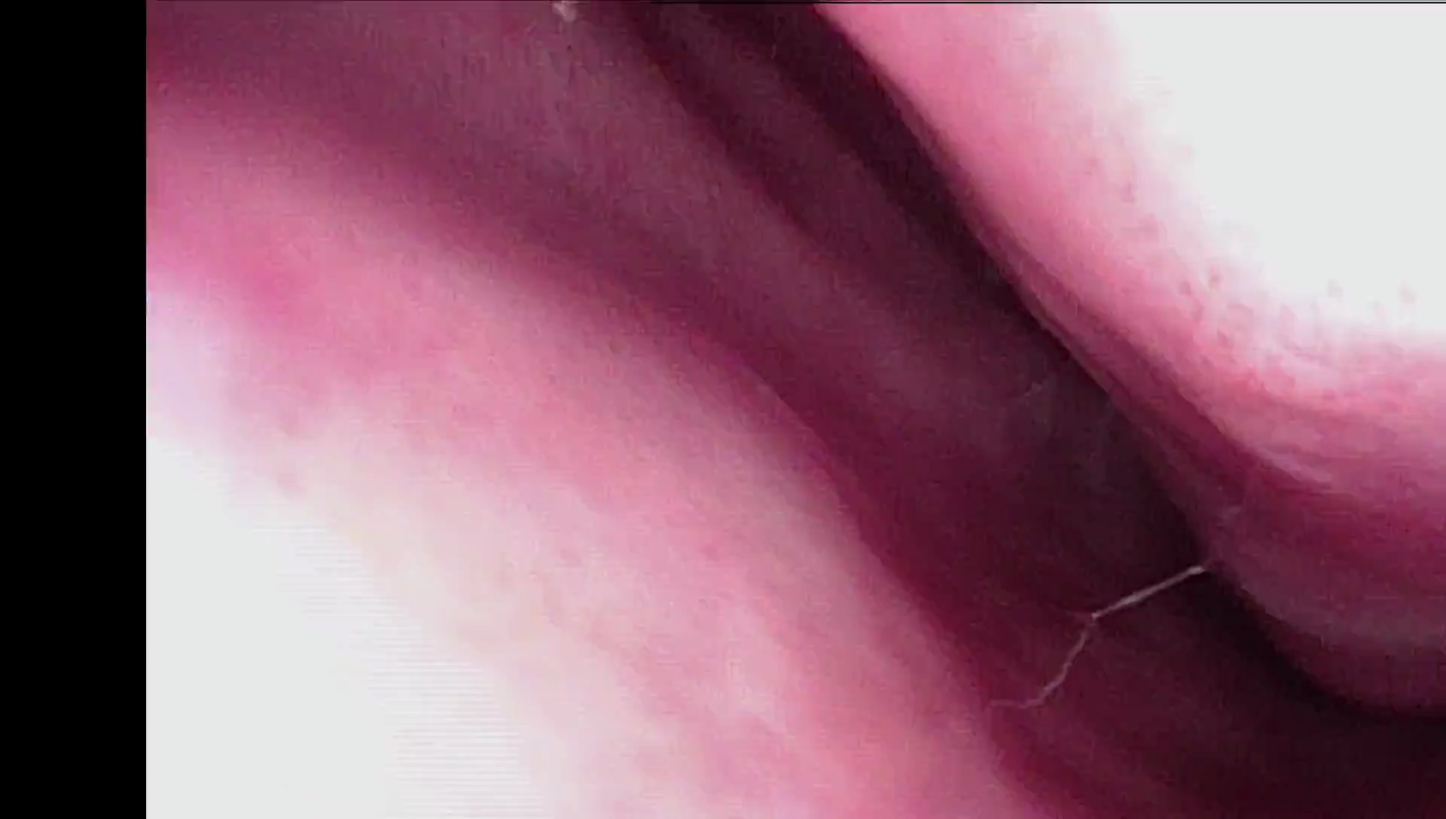close_wall: (155, 312, 769, 819), (1038, 0, 1446, 394)
next: (1101, 459, 1440, 806)
